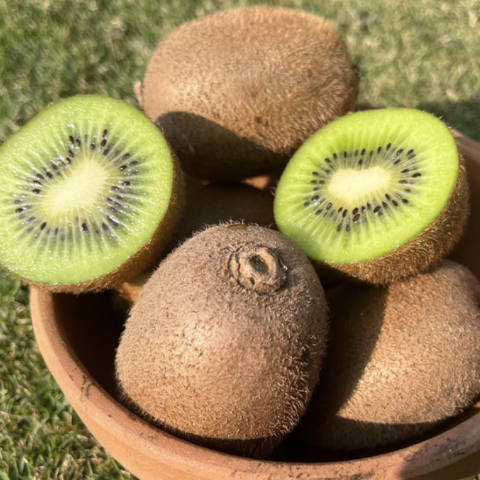kiwi: (106, 184, 341, 464), (119, 2, 364, 188)
